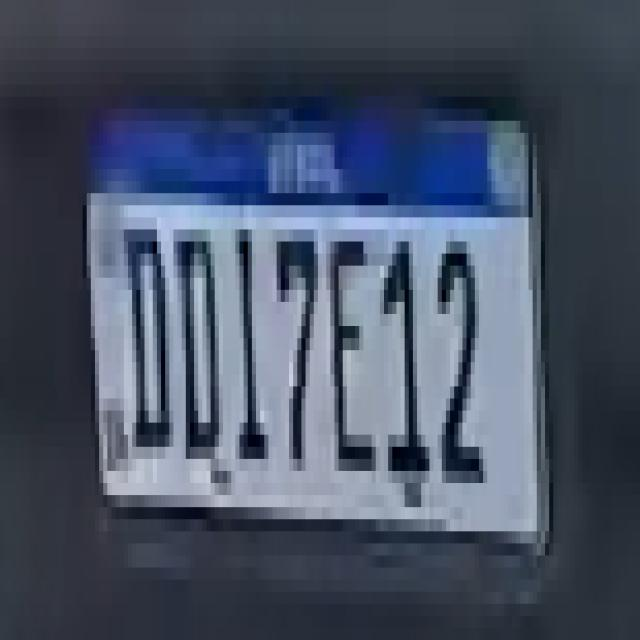Placa_mercosul_carro: (84, 101, 555, 548)
